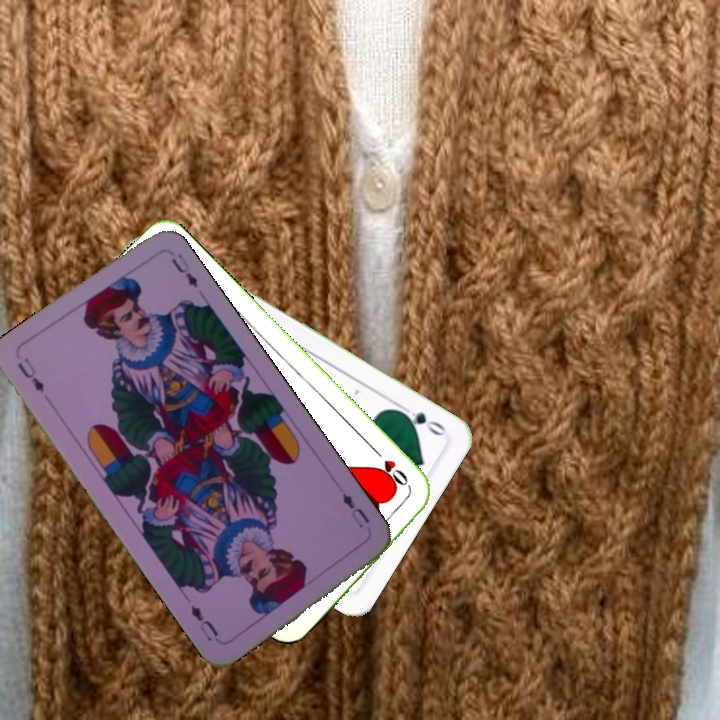EU: (338, 489, 373, 531), (13, 353, 47, 396)
GO: (393, 400, 448, 439)
HO: (371, 446, 415, 495)
